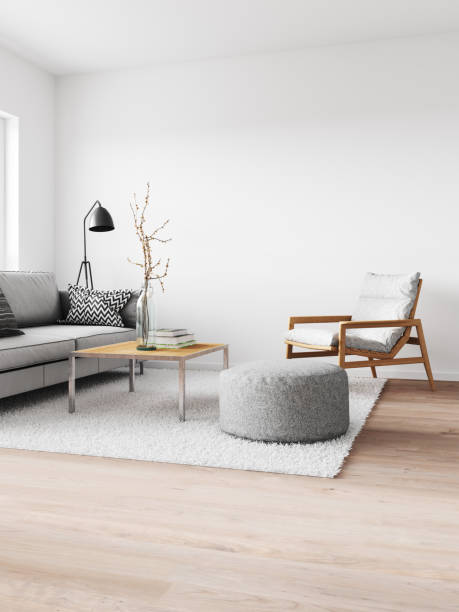chair: (281, 270, 439, 394)
floor lamp: (73, 197, 116, 291)
sofa: (0, 266, 145, 403)
table: (64, 340, 233, 424)
